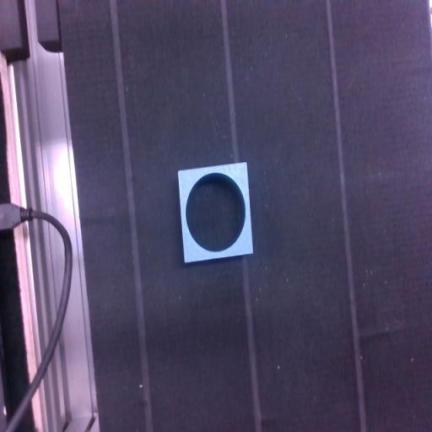hole: (179, 163, 253, 263)
